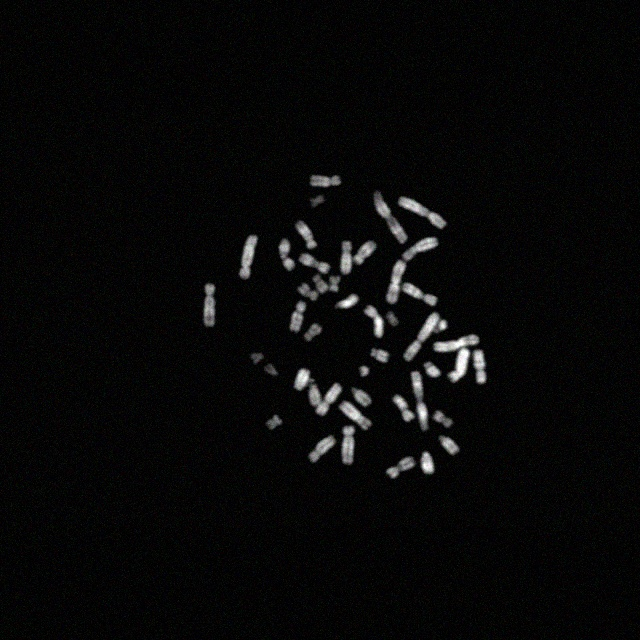chromosome: (404, 312, 438, 360), (374, 192, 406, 242), (398, 197, 446, 229), (340, 401, 372, 431), (412, 372, 428, 431), (316, 382, 342, 416), (402, 238, 440, 260), (446, 348, 469, 384), (404, 282, 436, 306), (386, 260, 404, 302), (239, 236, 257, 278), (434, 335, 478, 351), (309, 436, 335, 462), (386, 456, 416, 478), (364, 305, 384, 337), (352, 240, 376, 266), (299, 253, 329, 273), (296, 220, 316, 248), (394, 396, 414, 422), (203, 284, 215, 326), (289, 302, 305, 332), (280, 238, 294, 272), (342, 426, 354, 464), (474, 349, 486, 383), (352, 386, 372, 406), (341, 240, 352, 274), (307, 379, 321, 405), (294, 368, 310, 390), (439, 436, 458, 454), (310, 176, 340, 187), (304, 324, 322, 342), (298, 284, 318, 300), (336, 294, 358, 308), (433, 410, 452, 426), (421, 452, 434, 474), (424, 361, 441, 377), (266, 414, 282, 430), (370, 348, 388, 362), (314, 275, 328, 291), (433, 321, 447, 334), (387, 312, 399, 326), (264, 364, 278, 376), (250, 352, 264, 364), (330, 276, 340, 292), (312, 195, 324, 207), (359, 366, 368, 376)
